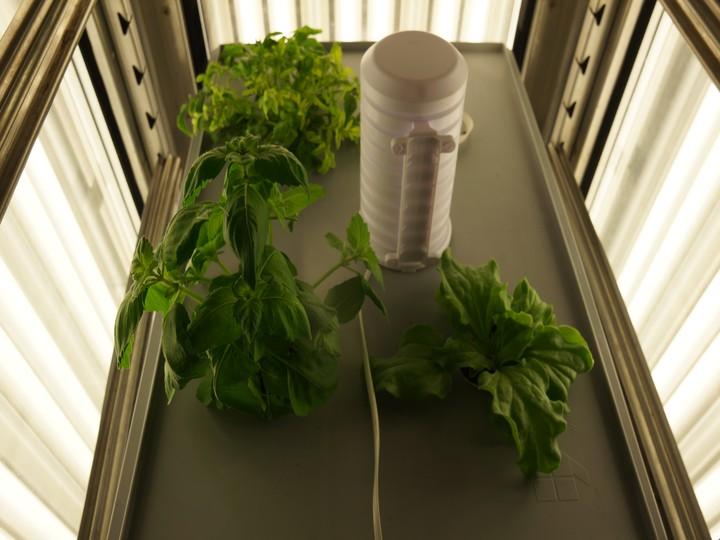basilic_blue_spice: (107, 134, 391, 429)
ficoide_glaciale: (373, 248, 604, 492)
roquette_sauvage_red_veined: (167, 26, 367, 173)
